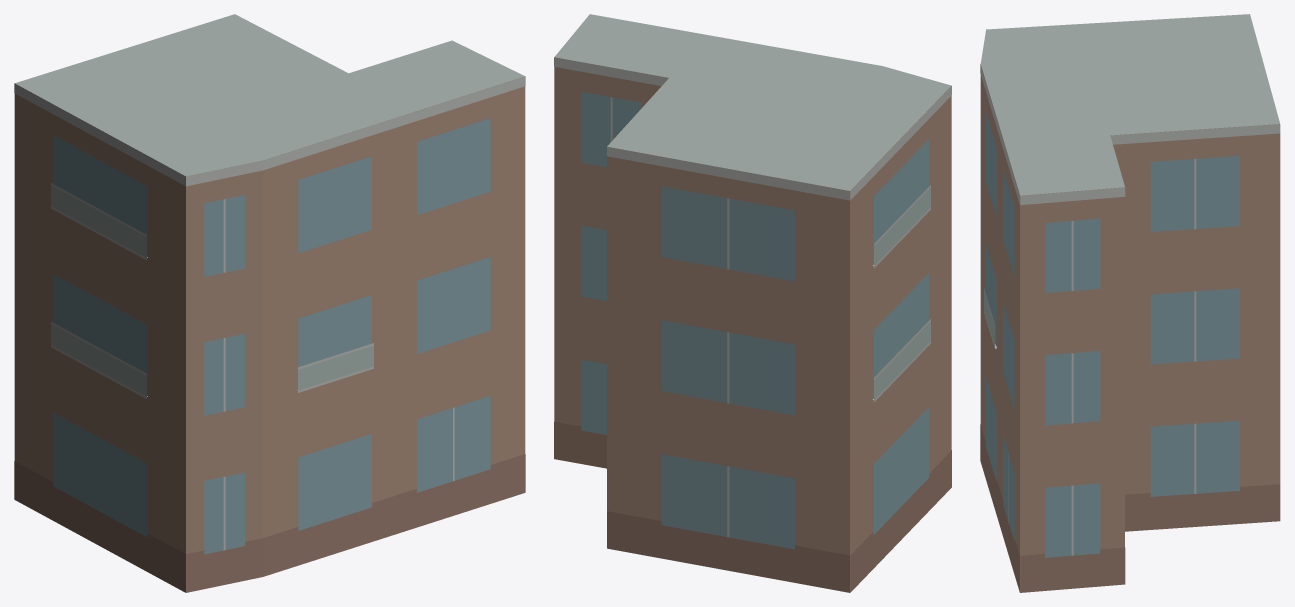
The model's file is survey-upis-33031981.glb.
3 views of the same model, side by side, from view 1: azimuth 30°, elevation 25°; view 2: azimuth 150°, elevation 25°; view 3: azimuth 270°, elevation 25° (orthographic). The views are drawn at different scales.
Visible parts, largest first — view 1: survey-upis-33031981.tmp; view 2: survey-upis-33031981.tmp; view 3: survey-upis-33031981.tmp.
Part boxes in pixels (<box>): survey-upis-33031981.tmp: <box>14,14,525,592</box>; survey-upis-33031981.tmp: <box>554,14,951,592</box>; survey-upis-33031981.tmp: <box>980,14,1280,592</box>.
Bounding box in the file's own units: 10.02 × 10.2 × 6.99.
